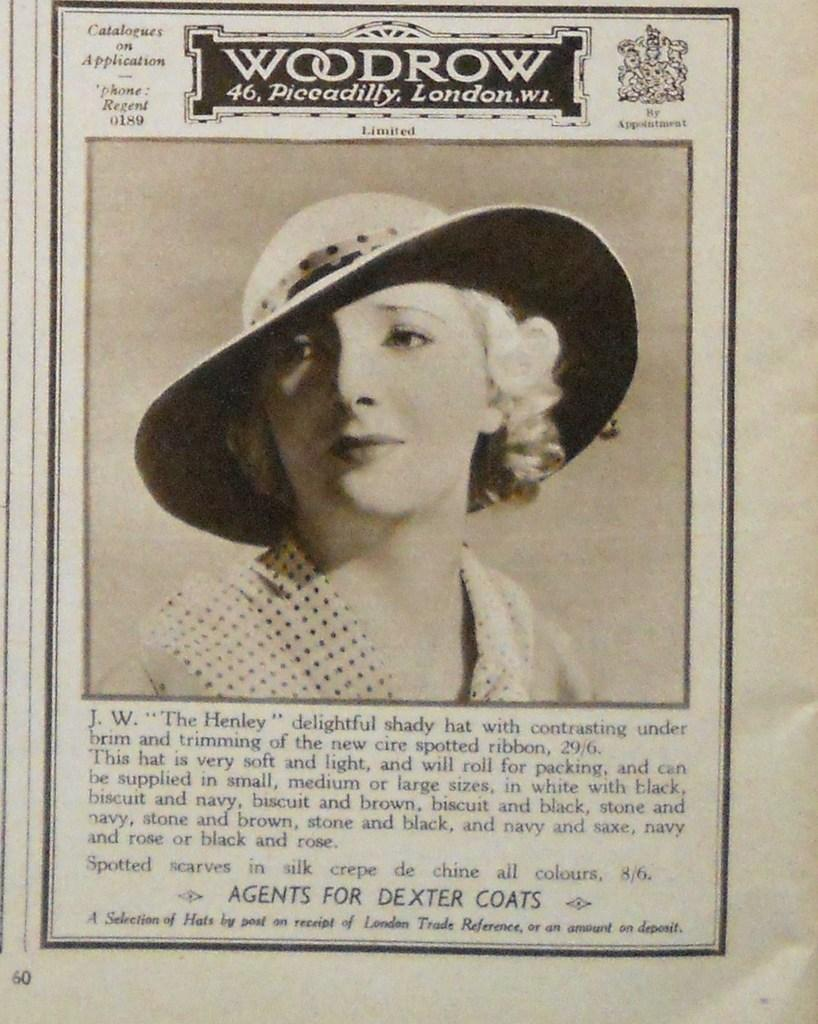Hat: (132, 189, 640, 550)
